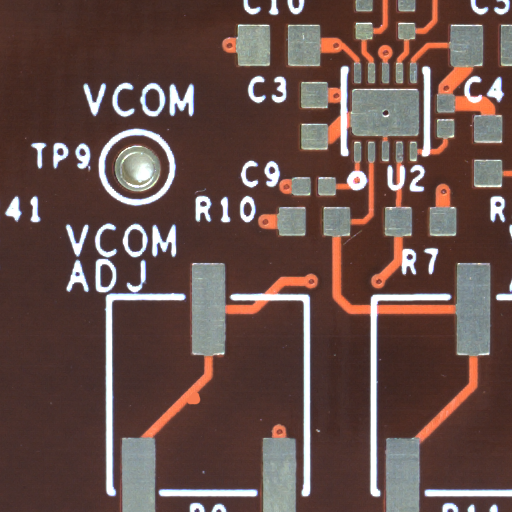Spur: (192, 399, 207, 410)
